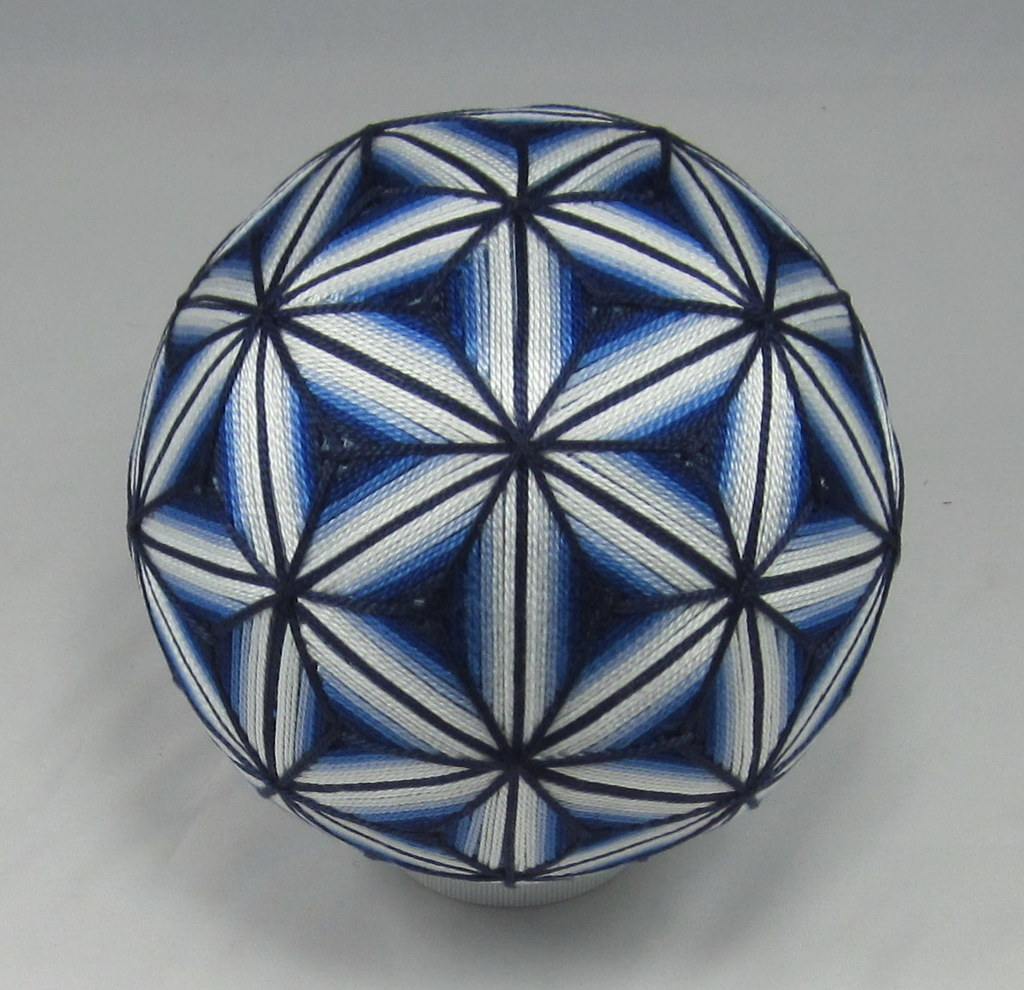Ball: (125, 100, 911, 906)
